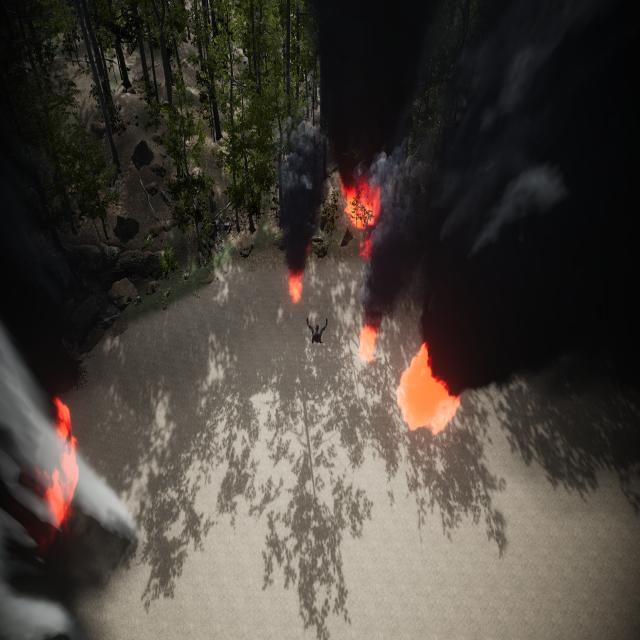Human: (303, 313, 331, 350)
